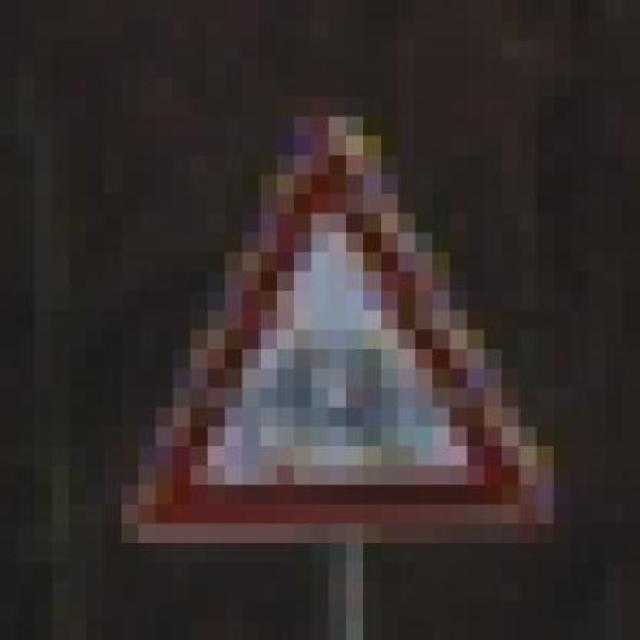CYCLE ROUTE AHEAD WARNING: (104, 97, 588, 581)
